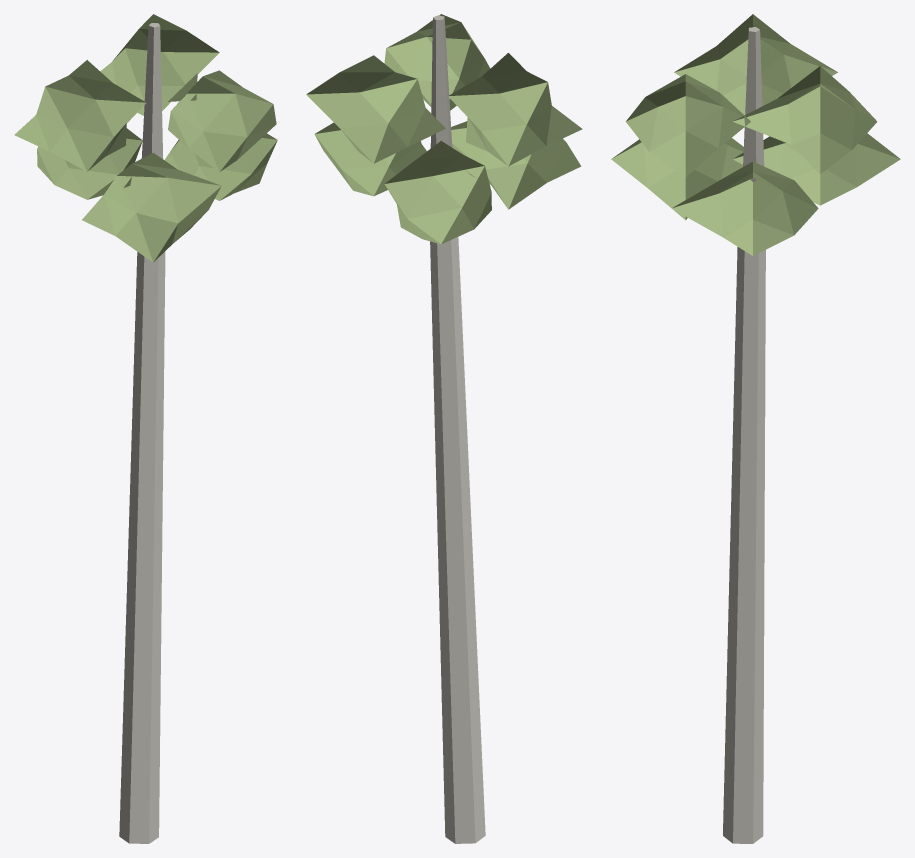
The model's file is birch_v26.glb.
3 views of the same model, side by side, from view 1: azimuth 30°, elevation 25°; view 2: azimuth 150°, elevation 25°; view 3: azimuth 270°, elevation 25° (orthographic).
Visible parts, largest first — view 1: lod0; view 2: lod0; view 3: lod0.
Part boxes in pixels (left/top/right/bottom): lod0: left=14, top=14, right=277, bottom=843; lod0: left=306, top=14, right=582, bottom=843; lod0: left=611, top=14, right=900, bottom=843.
Size of what is drawn, in the model's own units: 1.99 by 5.8 by 1.87.
